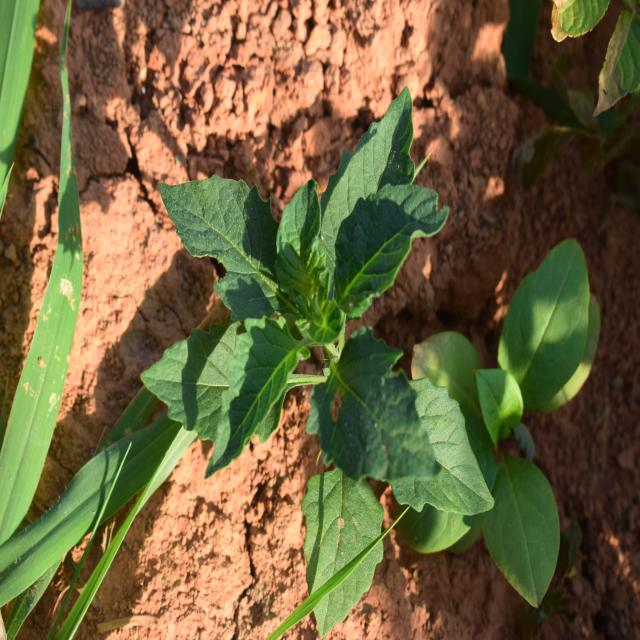Black_nightshade: (136, 113, 454, 499)
